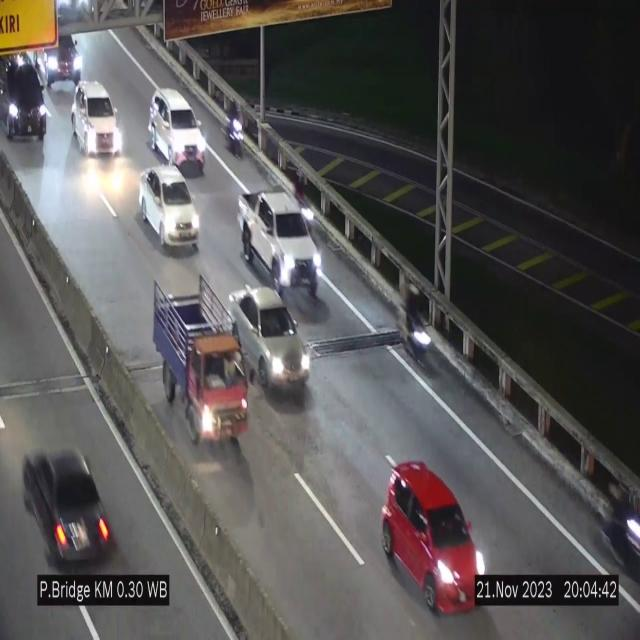Car: (382, 462, 484, 614), (18, 424, 112, 572), (238, 190, 322, 296), (229, 287, 309, 397), (140, 165, 200, 251), (148, 89, 206, 171), (0, 51, 48, 145), (36, 9, 90, 91), (71, 76, 123, 154)
Motorcycle: (592, 472, 640, 574), (402, 281, 432, 387), (293, 165, 315, 235), (226, 93, 244, 170)
Truck: (152, 269, 248, 448)
